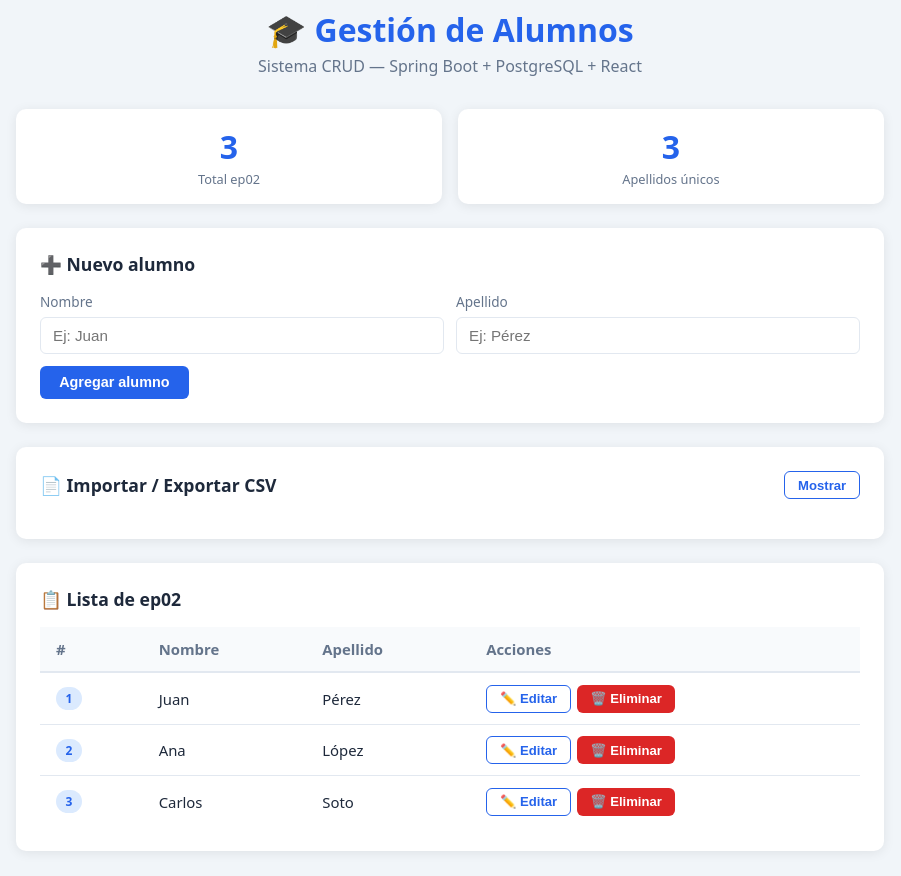
Scenario: App — flujo de eliminación › elimina un alumno al confirmar
Click the button titled "Eliminar" in the row of "Juan" at (626,699), box [577,684,675,713]
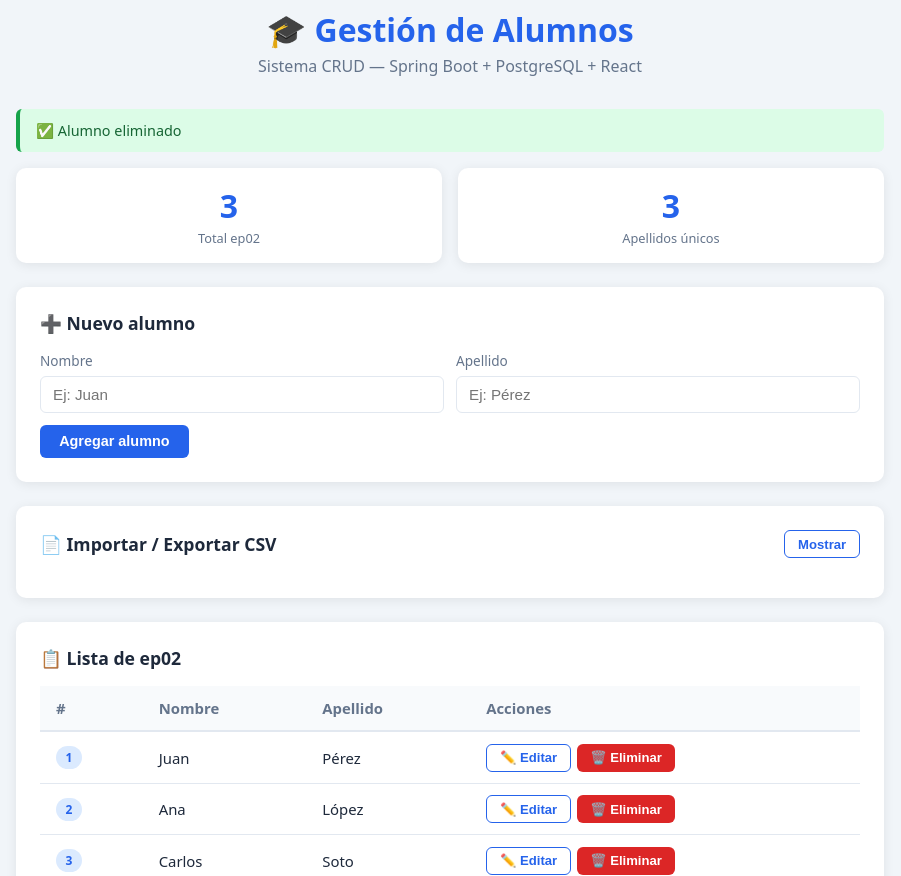
Expected: the text "✅ Alumno eliminado" is shown, [16,109,884,152]
